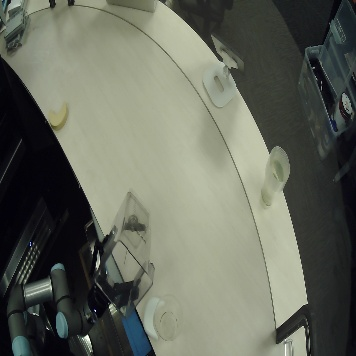empty_cup: (152, 290, 193, 349), (254, 145, 295, 204)
puck: (143, 294, 166, 342), (47, 101, 74, 129)
